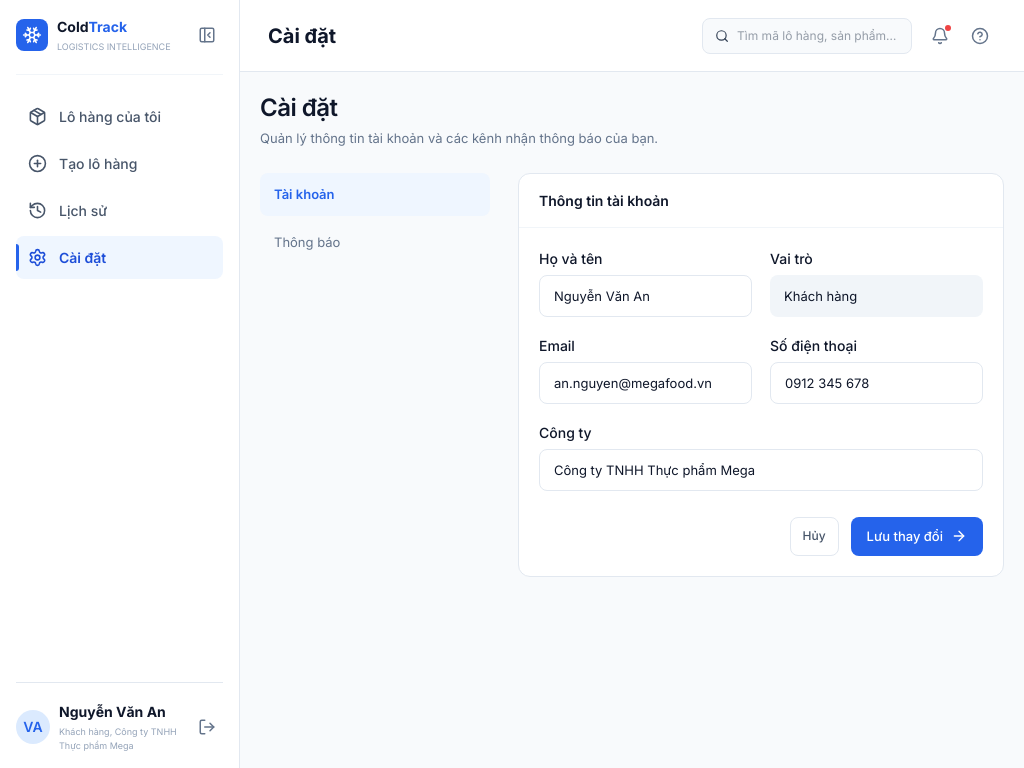
Test: B3 customer UI › has only account/notification settings and saves customer profile
Expected: the heading "Thông tin tài khoản" is shown, [539, 190, 669, 211]
Expected: the number of tabs is 2, [260, 173, 490, 216]; [260, 221, 490, 265]
Replace the text in the field labelled "Họ và tên" with "Khách hàng cập nhật" at x=646, y=296, box [539, 275, 752, 317]
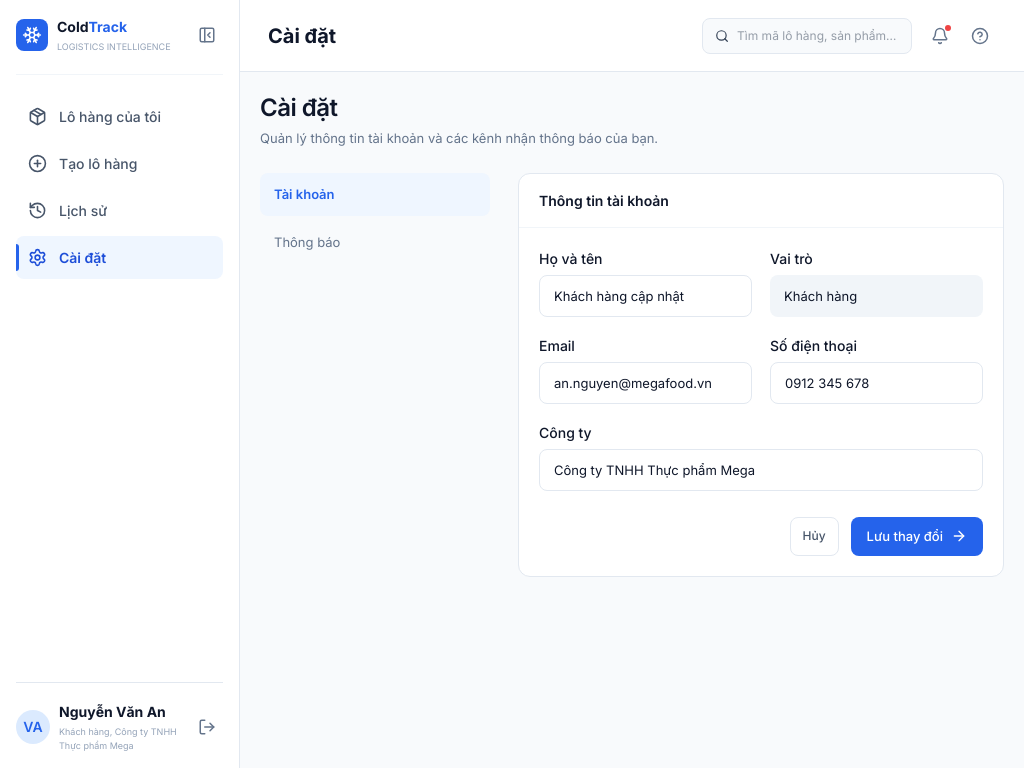
Click the button "Lưu thay đổi".
click(917, 536)  # box [851, 517, 983, 556]
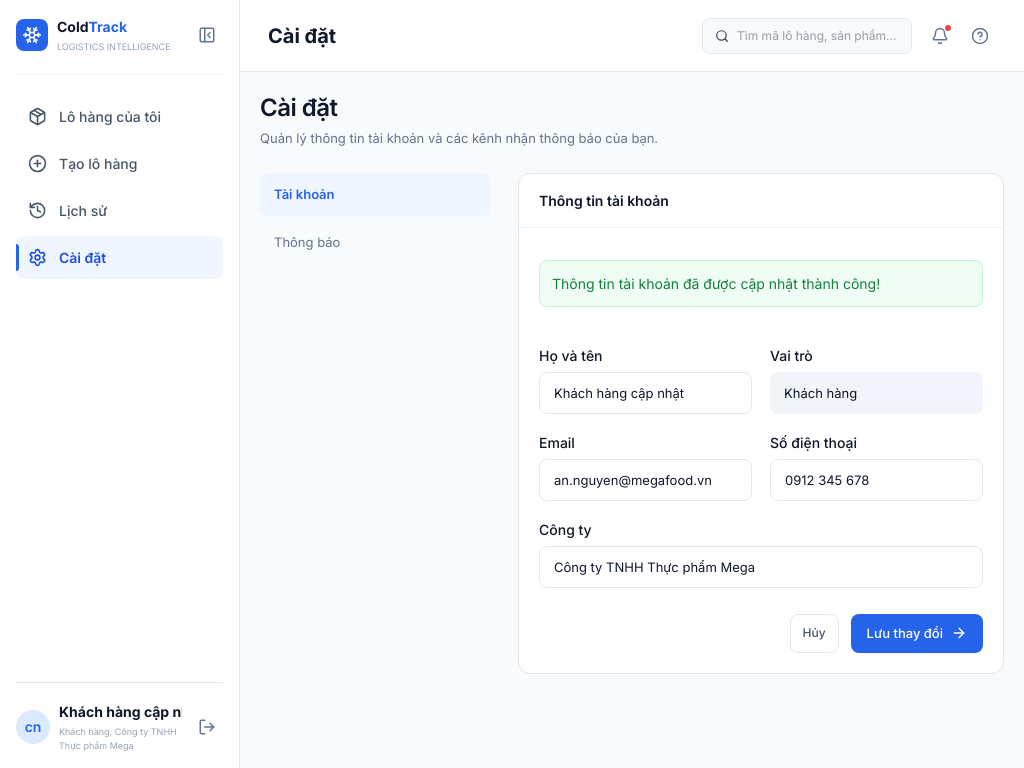
Now the text "Thông tin tài khoản đã được cập nhật thành công!" is shown, box [539, 260, 983, 307]
Now the text "Khách hàng cập nhật" is shown, box [59, 701, 182, 722]
Click the tab "Thông báo".
click(375, 243)  # box [260, 221, 490, 265]
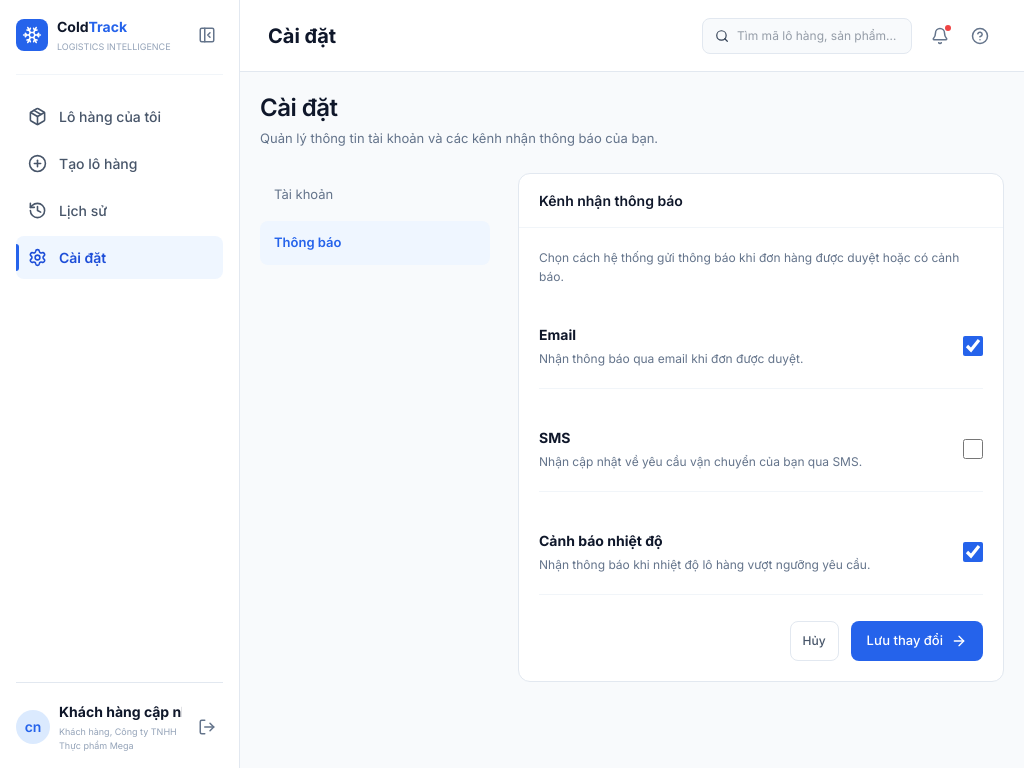
Click the switch labelled "SMS".
click(973, 449)  # box [963, 439, 983, 459]
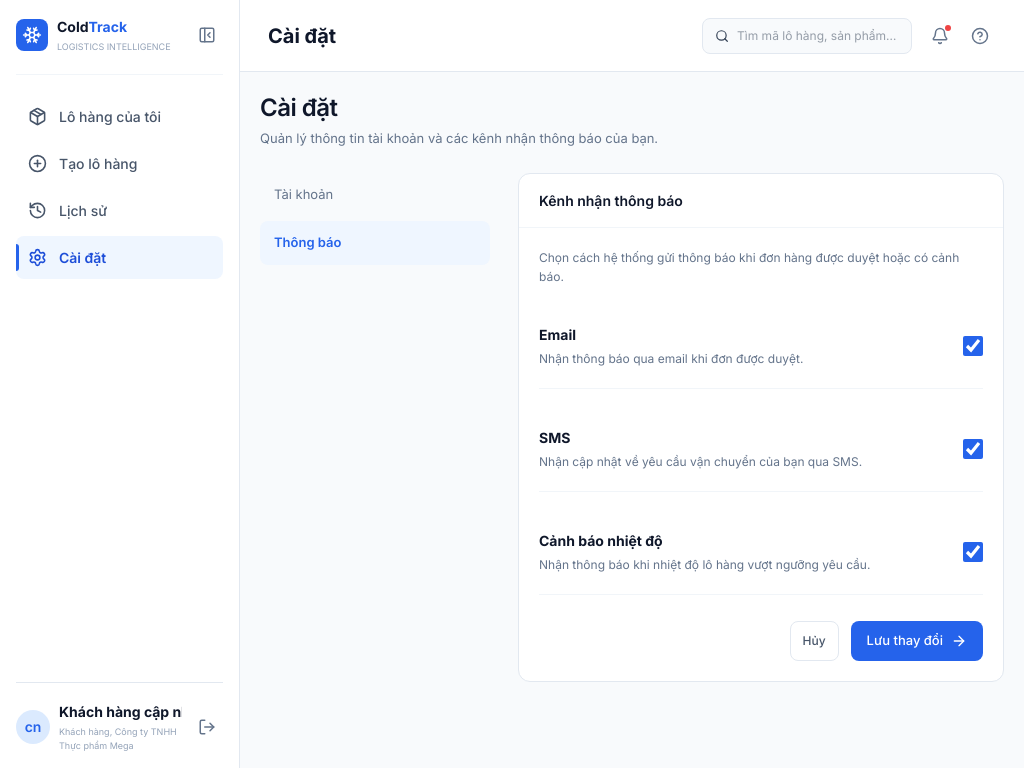
Click the button "Lưu thay đổi".
click(917, 641)  # box [851, 621, 983, 661]
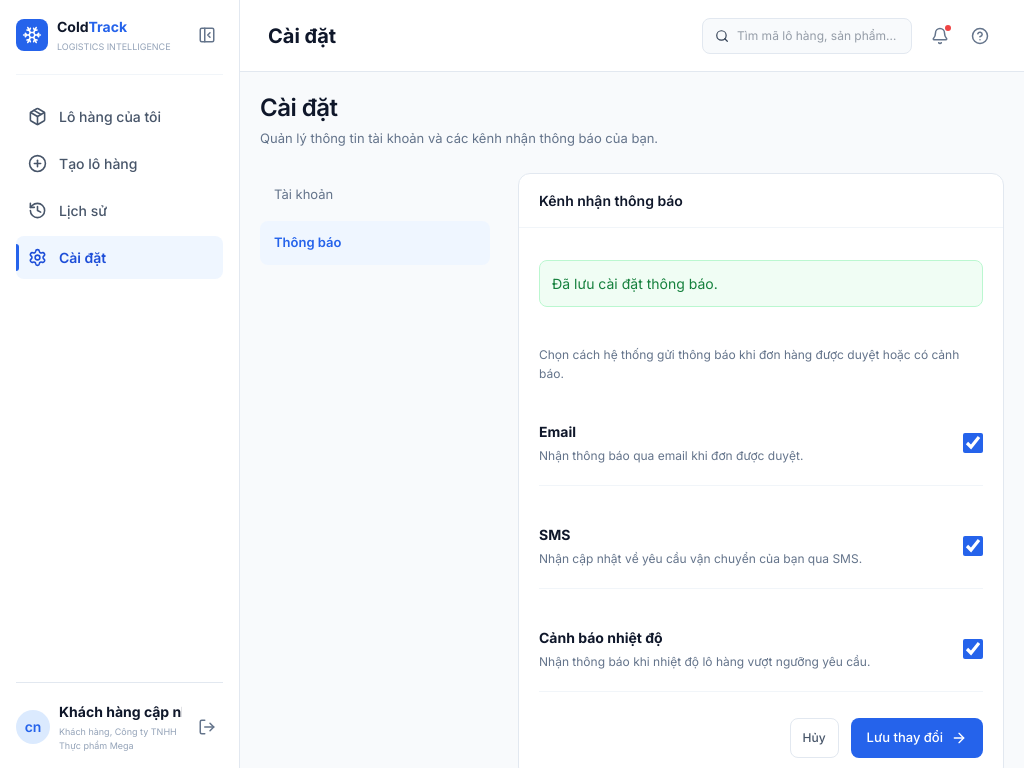
Now the text "Đã lưu cài đặt thông báo." is shown, box [539, 260, 983, 307]
